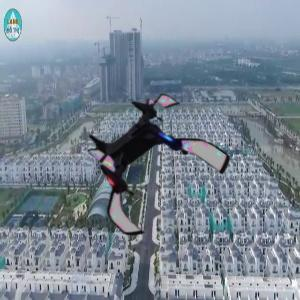drone: (76, 94, 222, 240)
